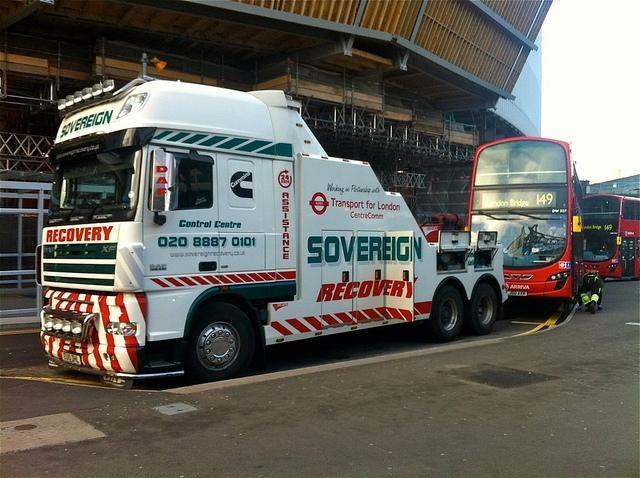bus: (468, 134, 584, 304), (584, 194, 640, 281)
truck: (40, 76, 512, 389)
